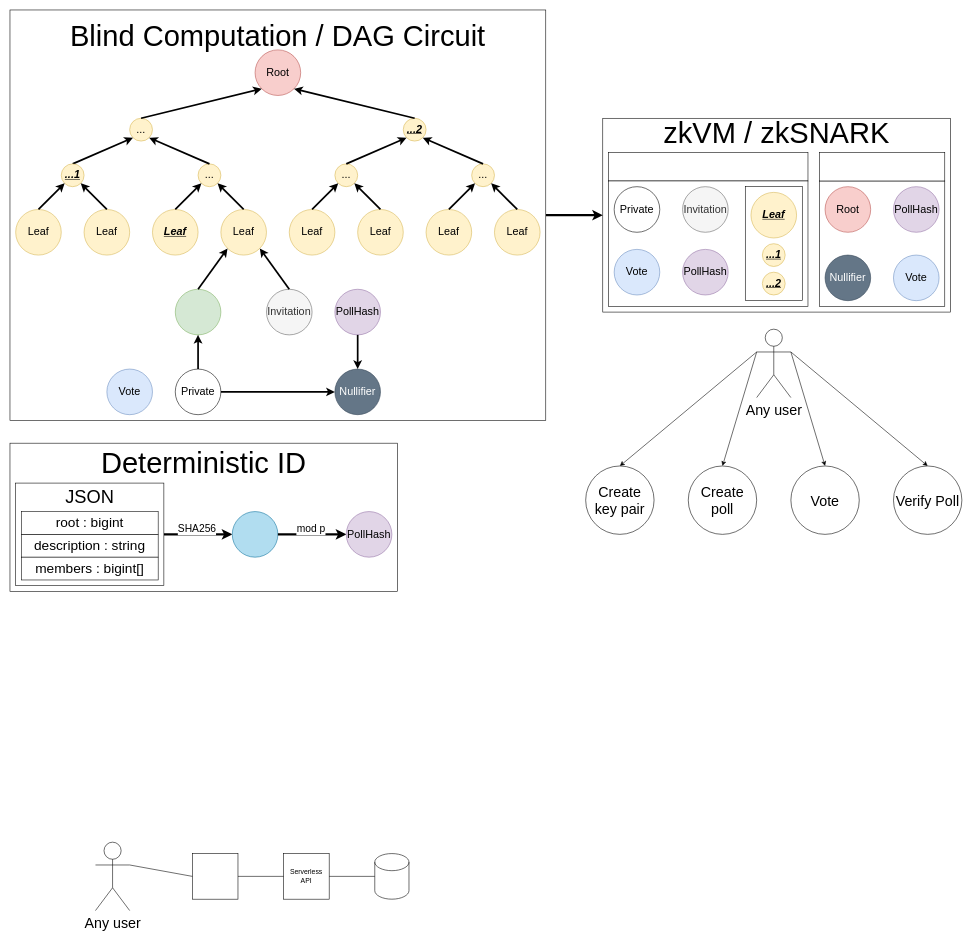
Image size: 972x942. Some labels were removed from this diagram. The shapes that lost their labels are listed below. From the top down, each one's centre as x and y in pixels, then its label:
the point at 708,166: Secret Witness
the point at 882,166: Public Signals
the point at 198,312: Public
the point at 255,534: Poll ID
the point at 215,876: Front-end (domain)
the point at 391,876: DB
